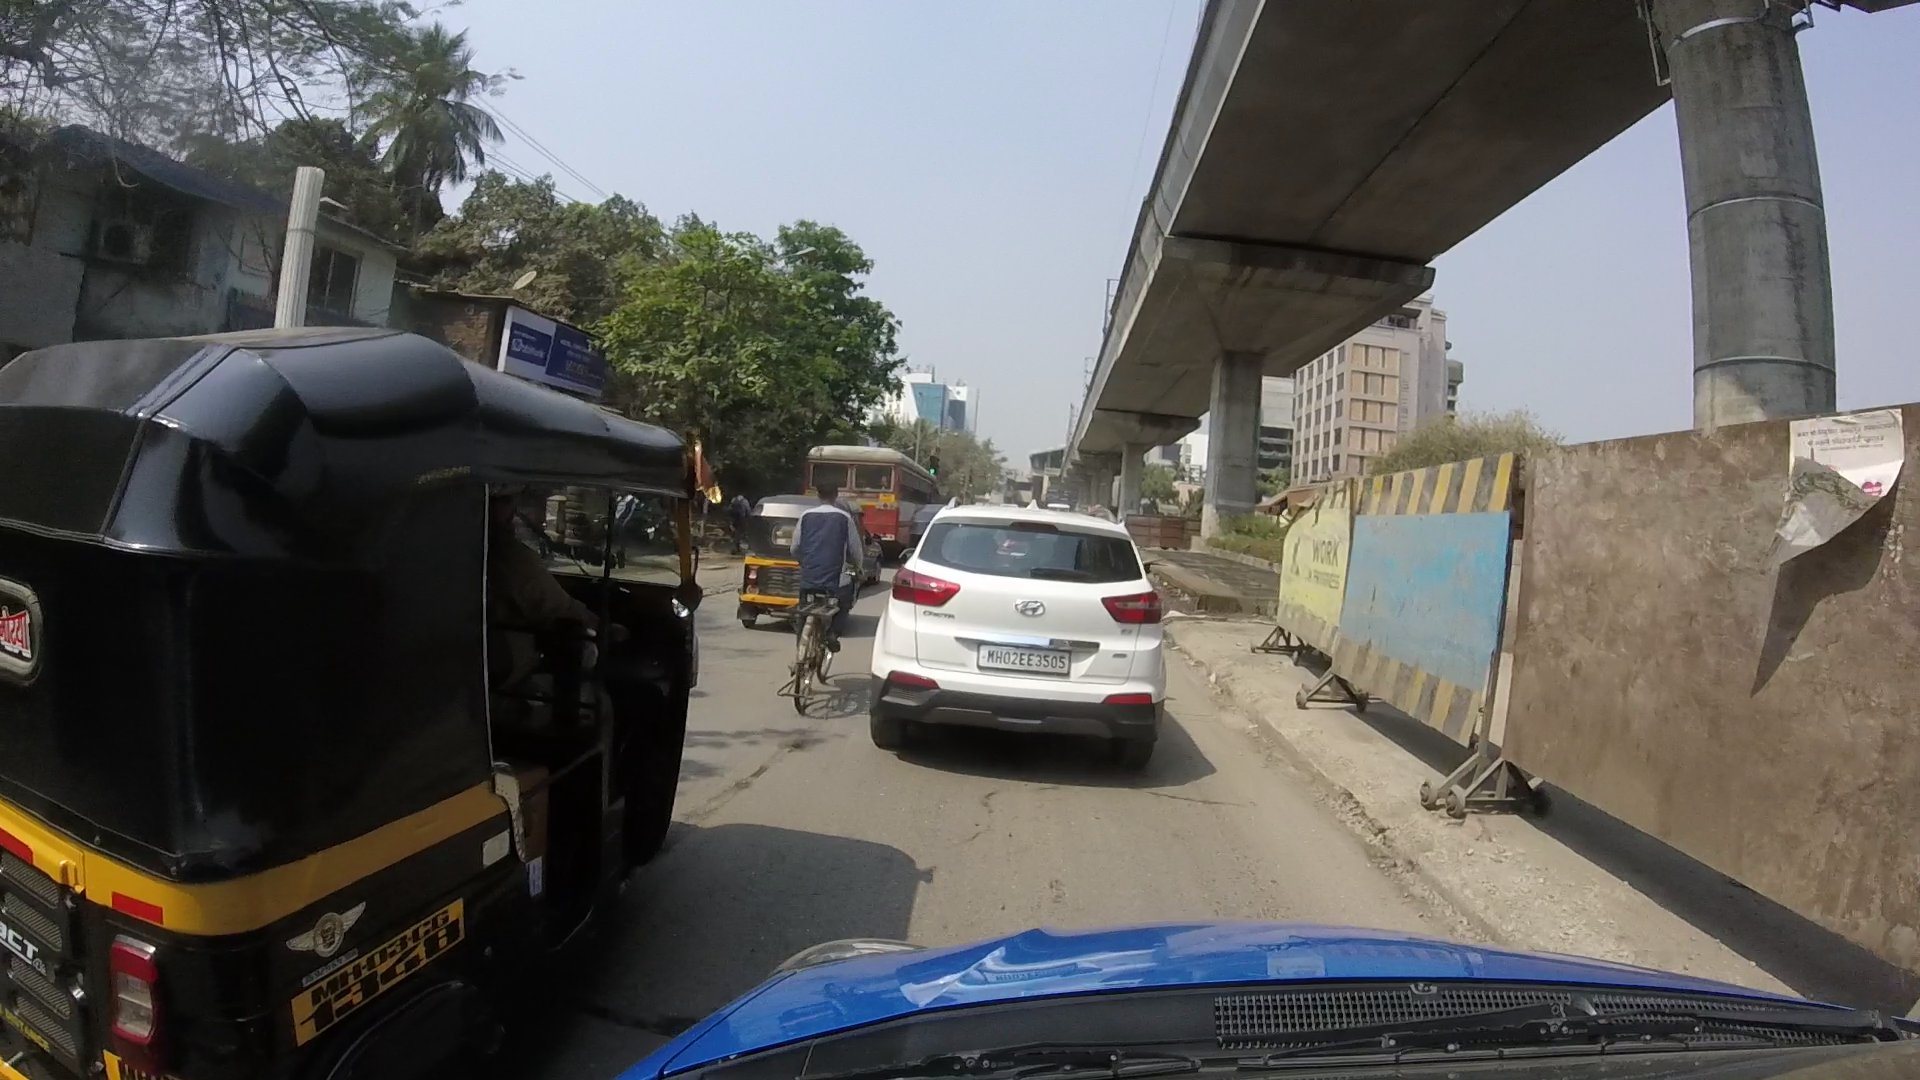car: (857, 477, 1185, 748)
rickshaw: (1, 278, 694, 1065), (733, 463, 839, 611)
